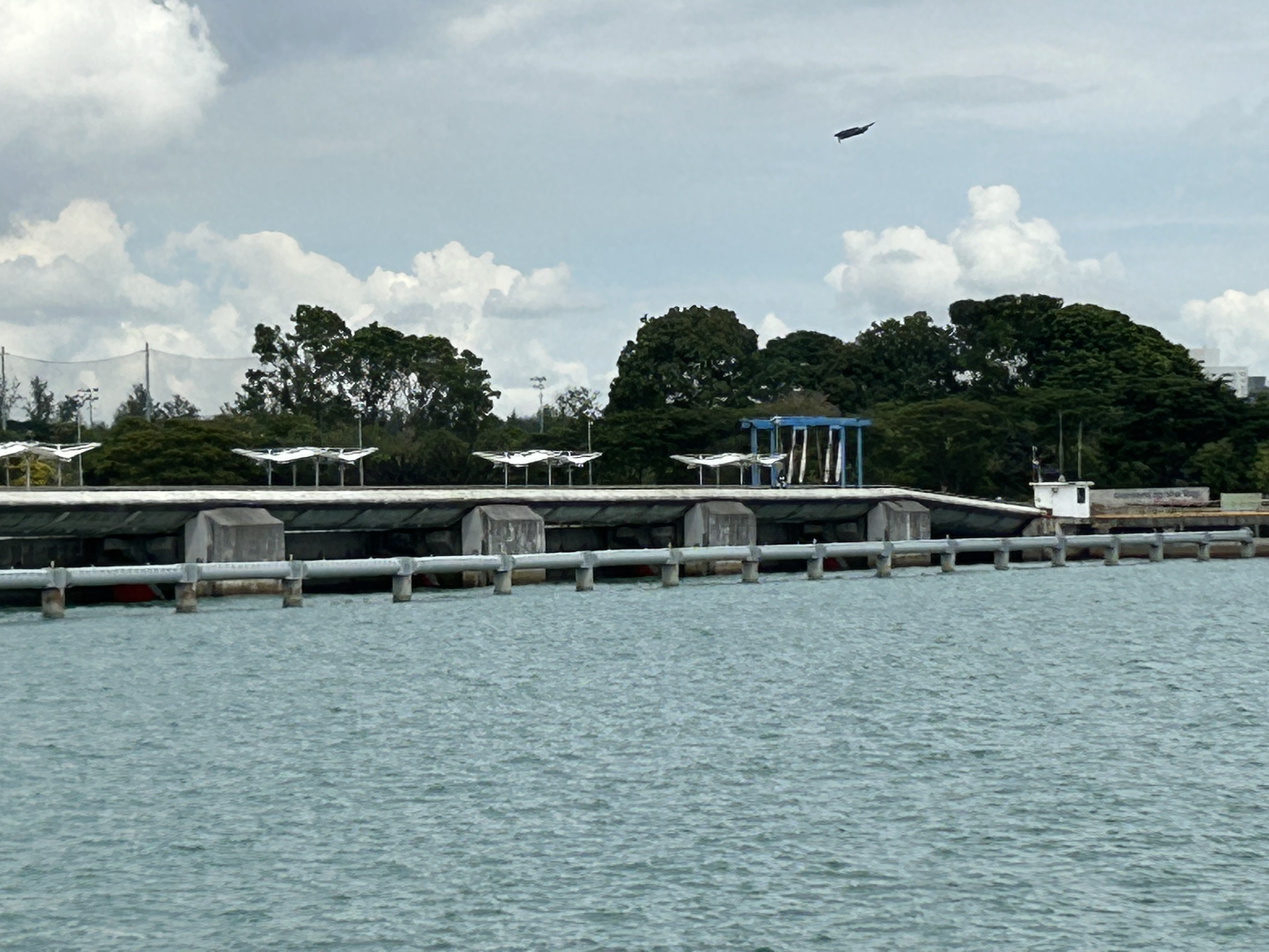drone_other: (833, 120, 878, 145)
